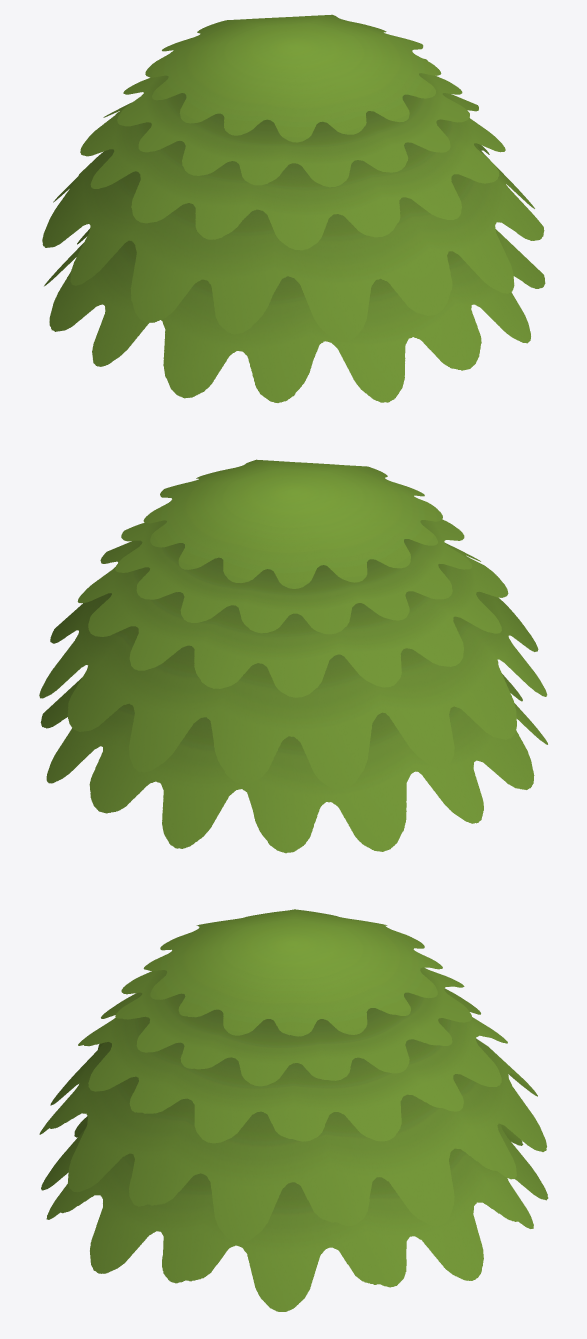
Rendered from plant_1.fbx.
3 renders of one model, top to bottom at view 1: azimuth 30°, elevation 25°; view 2: azimuth 150°, elevation 25°; view 3: azimuth 270°, elevation 25°, orthographic.
Parts seen in each view (by area): view 1: Plant_1; view 2: Plant_1; view 3: Plant_1.
Part boxes in pixels (bbox=[...]): Plant_1: bbox=[42, 14, 545, 402]; Plant_1: bbox=[39, 459, 547, 853]; Plant_1: bbox=[39, 909, 548, 1311].
Bounding box in the file's own units: 212 × 113 × 212.
